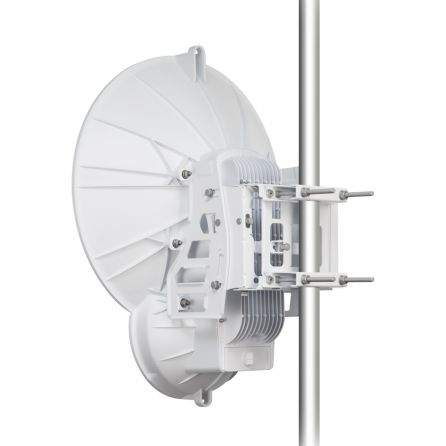ba: (59, 42, 342, 420)
